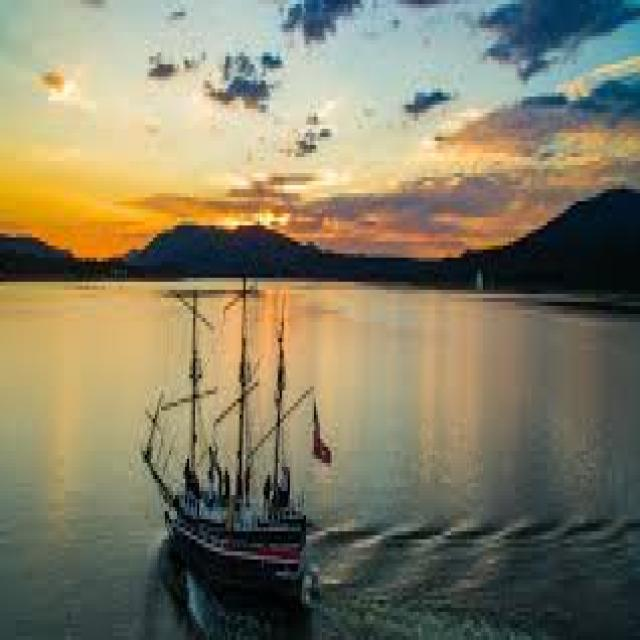fishing boat: (142, 260, 335, 591)
